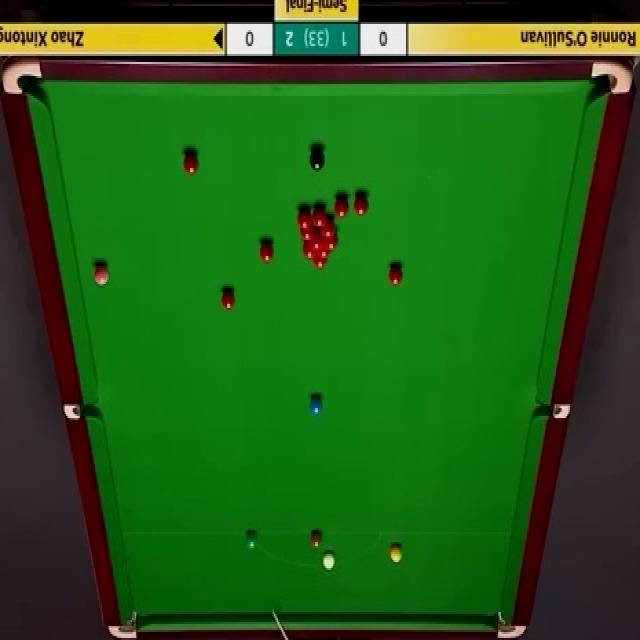black-ball: (309, 148, 325, 172)
blue-ball: (308, 394, 324, 417)
brown-ball: (310, 530, 322, 549)
green-ball: (246, 531, 258, 550)
pink-ball: (92, 260, 110, 288)
red-ball: (182, 150, 199, 176), (220, 285, 237, 310), (388, 263, 404, 287), (311, 206, 327, 229), (297, 207, 312, 231), (260, 239, 275, 263), (351, 197, 367, 219), (335, 194, 349, 217), (321, 219, 336, 238), (302, 243, 318, 259), (300, 227, 316, 241), (308, 236, 324, 250), (324, 238, 338, 251), (312, 259, 328, 270), (315, 250, 331, 259)
white-ball: (321, 550, 336, 572)
yellow-ball: (390, 544, 403, 567)
